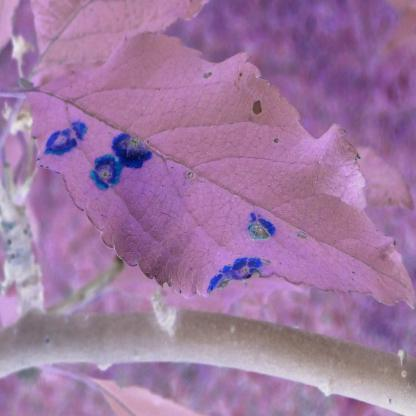apple rust leaf: (22, 24, 415, 317)
